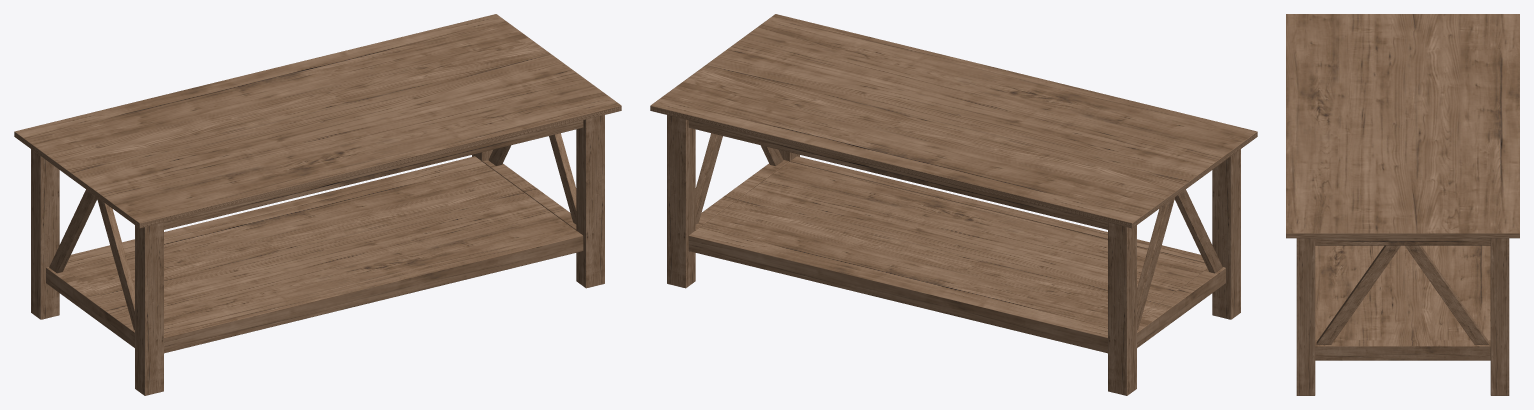
3 renders of one model, left to right at view 1: azimuth 30°, elevation 25°; view 2: azimuth 150°, elevation 25°; view 3: azimuth 270°, elevation 25°, orthographic. The views are drawn at different scales.
Visible parts, largest first — view 1: Mesh1_spec__3b3b3b_21_blackmtlss_wf_70_ANDO1675_0; view 2: Mesh1_spec__3b3b3b_21_blackmtlss_wf_70_ANDO1675_0; view 3: Mesh1_spec__3b3b3b_21_blackmtlss_wf_70_ANDO1675_0.
Part boxes in pixels (box(x1,y1,x2,y2)): Mesh1_spec__3b3b3b_21_blackmtlss_wf_70_ANDO1675_0: box(14, 14, 621, 395); Mesh1_spec__3b3b3b_21_blackmtlss_wf_70_ANDO1675_0: box(650, 14, 1257, 395); Mesh1_spec__3b3b3b_21_blackmtlss_wf_70_ANDO1675_0: box(1286, 14, 1519, 395).
Bounding box in the file's own units: 1.51 × 0.5392 × 0.6817.
Materials: 1 (1 with a texture image).
